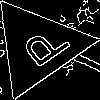P: (12, 21, 73, 76)
